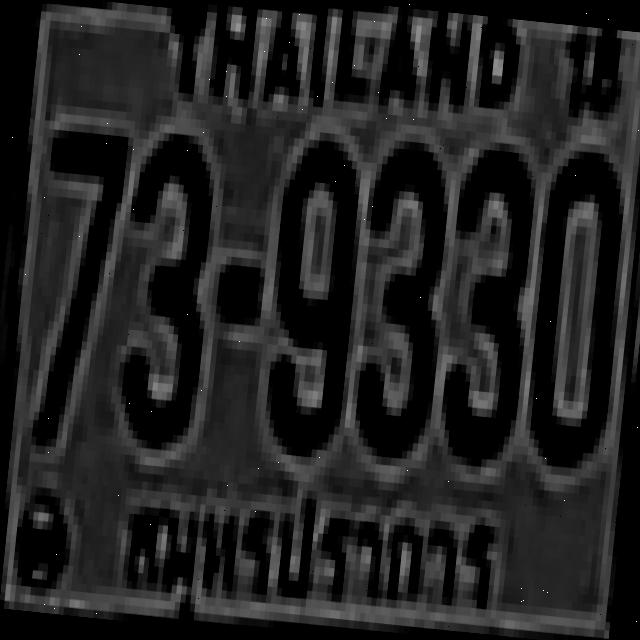0: (517, 140, 630, 462)
3: (106, 121, 220, 444), (432, 138, 540, 460), (344, 130, 452, 452)
7: (18, 120, 126, 442)
9: (254, 128, 367, 452)
SamutPrakan: (105, 465, 515, 640)
